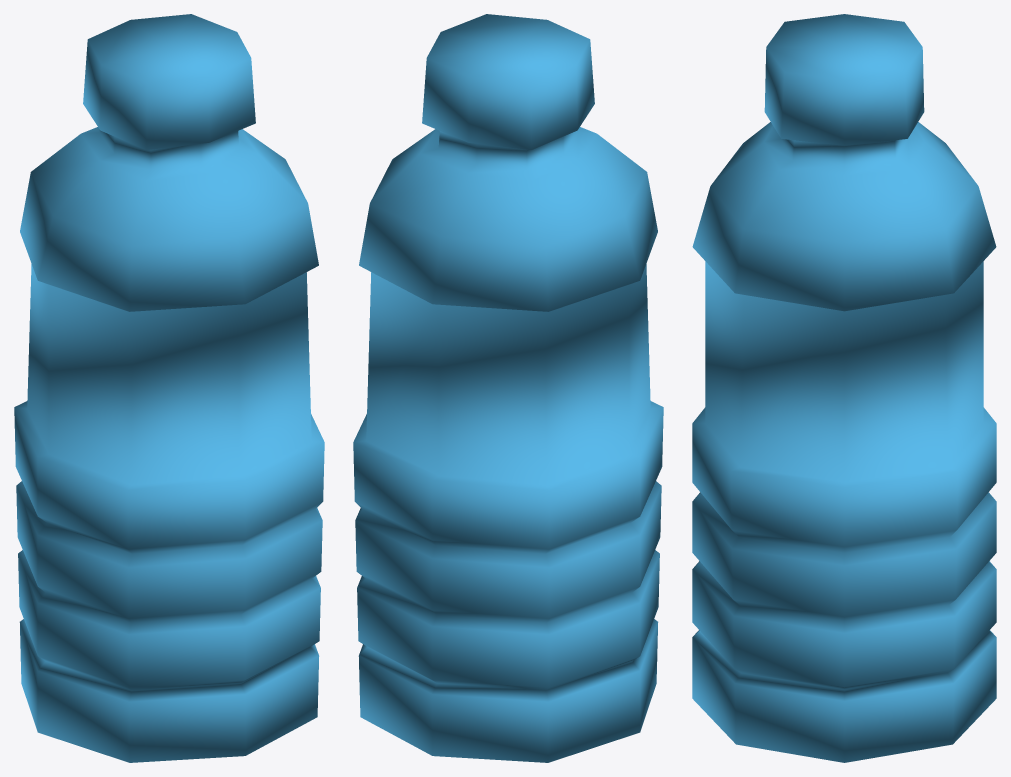
File: Botella.fbx
3 views of the same model, side by side, from view 1: azimuth 30°, elevation 25°; view 2: azimuth 150°, elevation 25°; view 3: azimuth 270°, elevation 25° (orthographic).
Visible parts, largest first — view 1: Botella; view 2: Botella; view 3: Botella.
Part boxes in pixels (x1,y1,x2,y2): Botella: (14,14,324,762); Botella: (353,14,663,762); Botella: (692,14,996,762).
Bounding box in the file's own units: 200 × 473 × 200.
